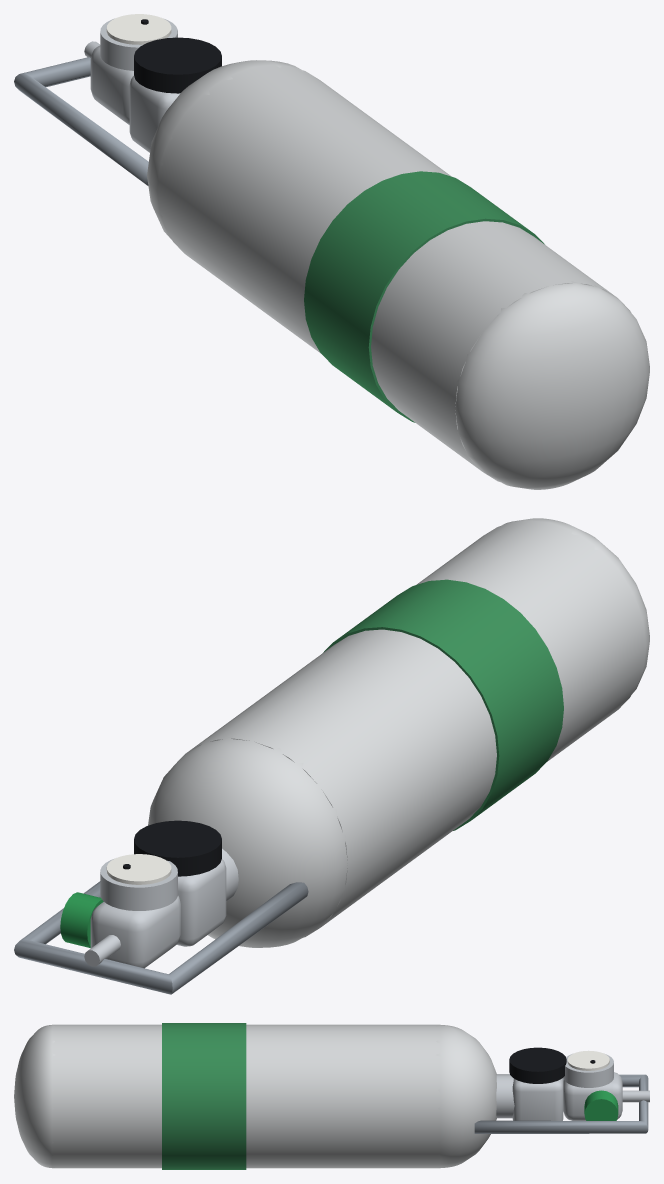
The model's file is oxygen.glb.
The picture shows the model from 3 angles, top to bottom: view 1: azimuth 30°, elevation 25°; view 2: azimuth 150°, elevation 25°; view 3: azimuth 270°, elevation 25°; orthographic projection. The views are drawn at different scales.
Visible parts, largest first — view 1: oxygen; view 2: oxygen; view 3: oxygen.
Boxes of the visible parts, left/top/right/bottom form: oxygen: left=14, top=14, right=649, bottom=489; oxygen: left=14, top=518, right=649, bottom=994; oxygen: left=14, top=1023, right=649, bottom=1169.
Size of the model in its own units: 0.174 by 0.174 by 0.7525.
